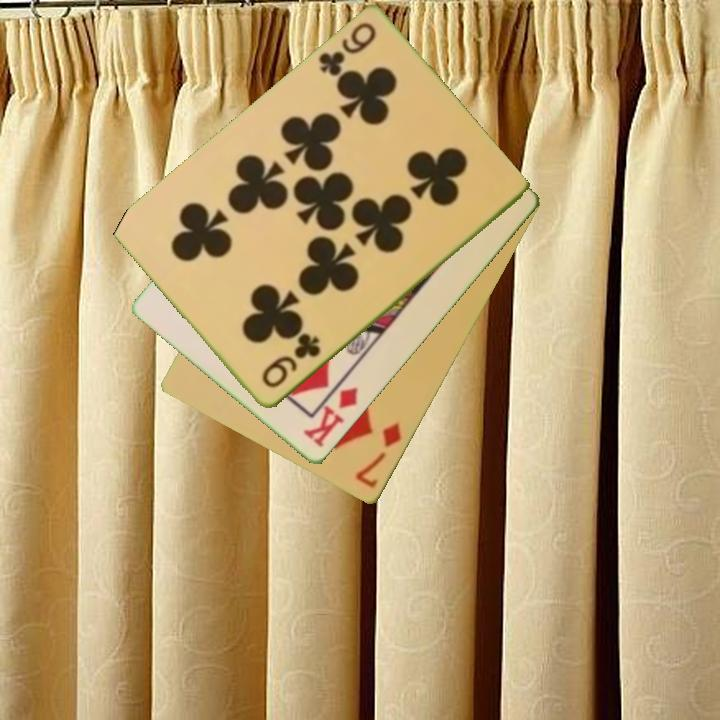7d: (351, 419, 405, 492)
9c: (258, 331, 324, 392), (314, 19, 379, 80)
Kd: (300, 383, 362, 451)
